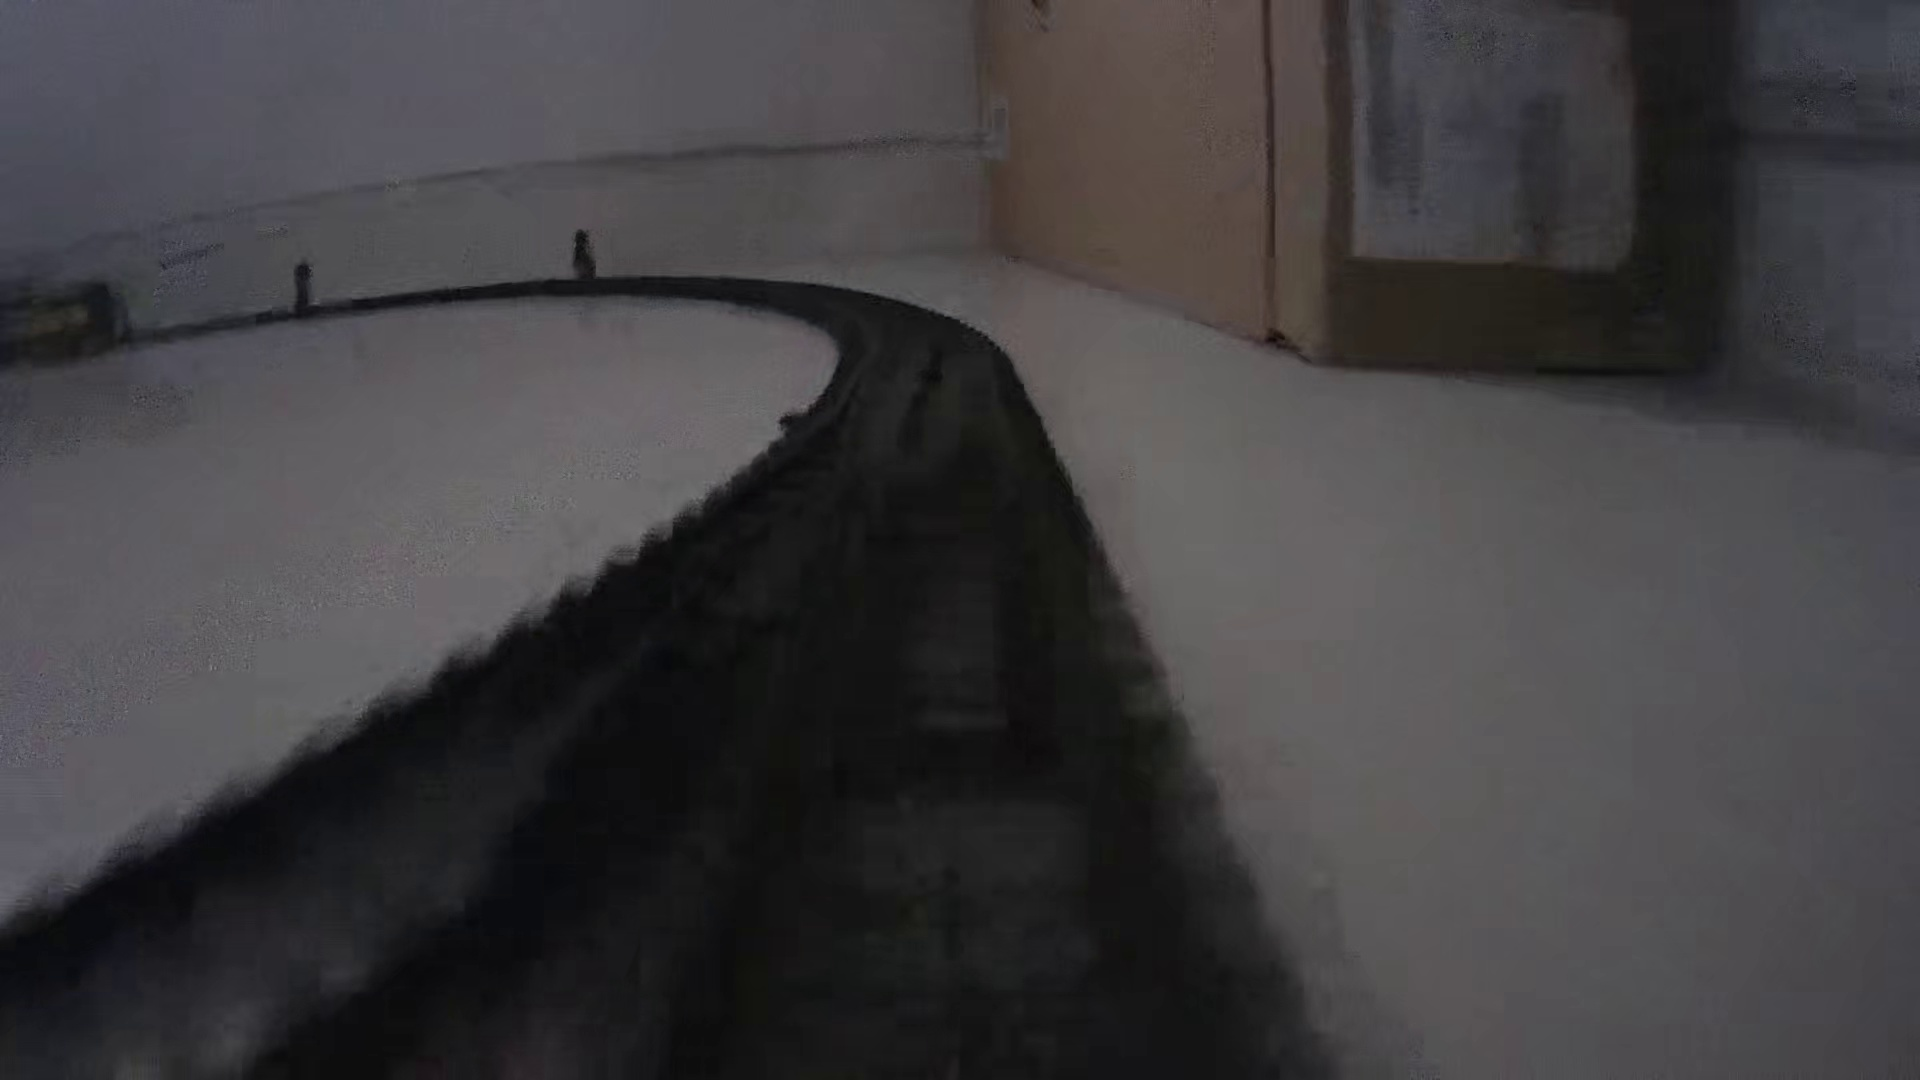people: (569, 227, 599, 296), (291, 259, 312, 314)
